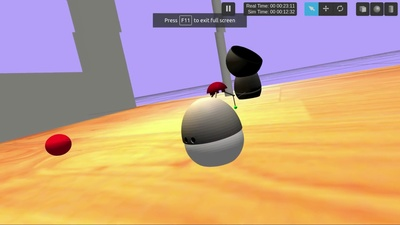mira_robot: (182, 97, 244, 167)
